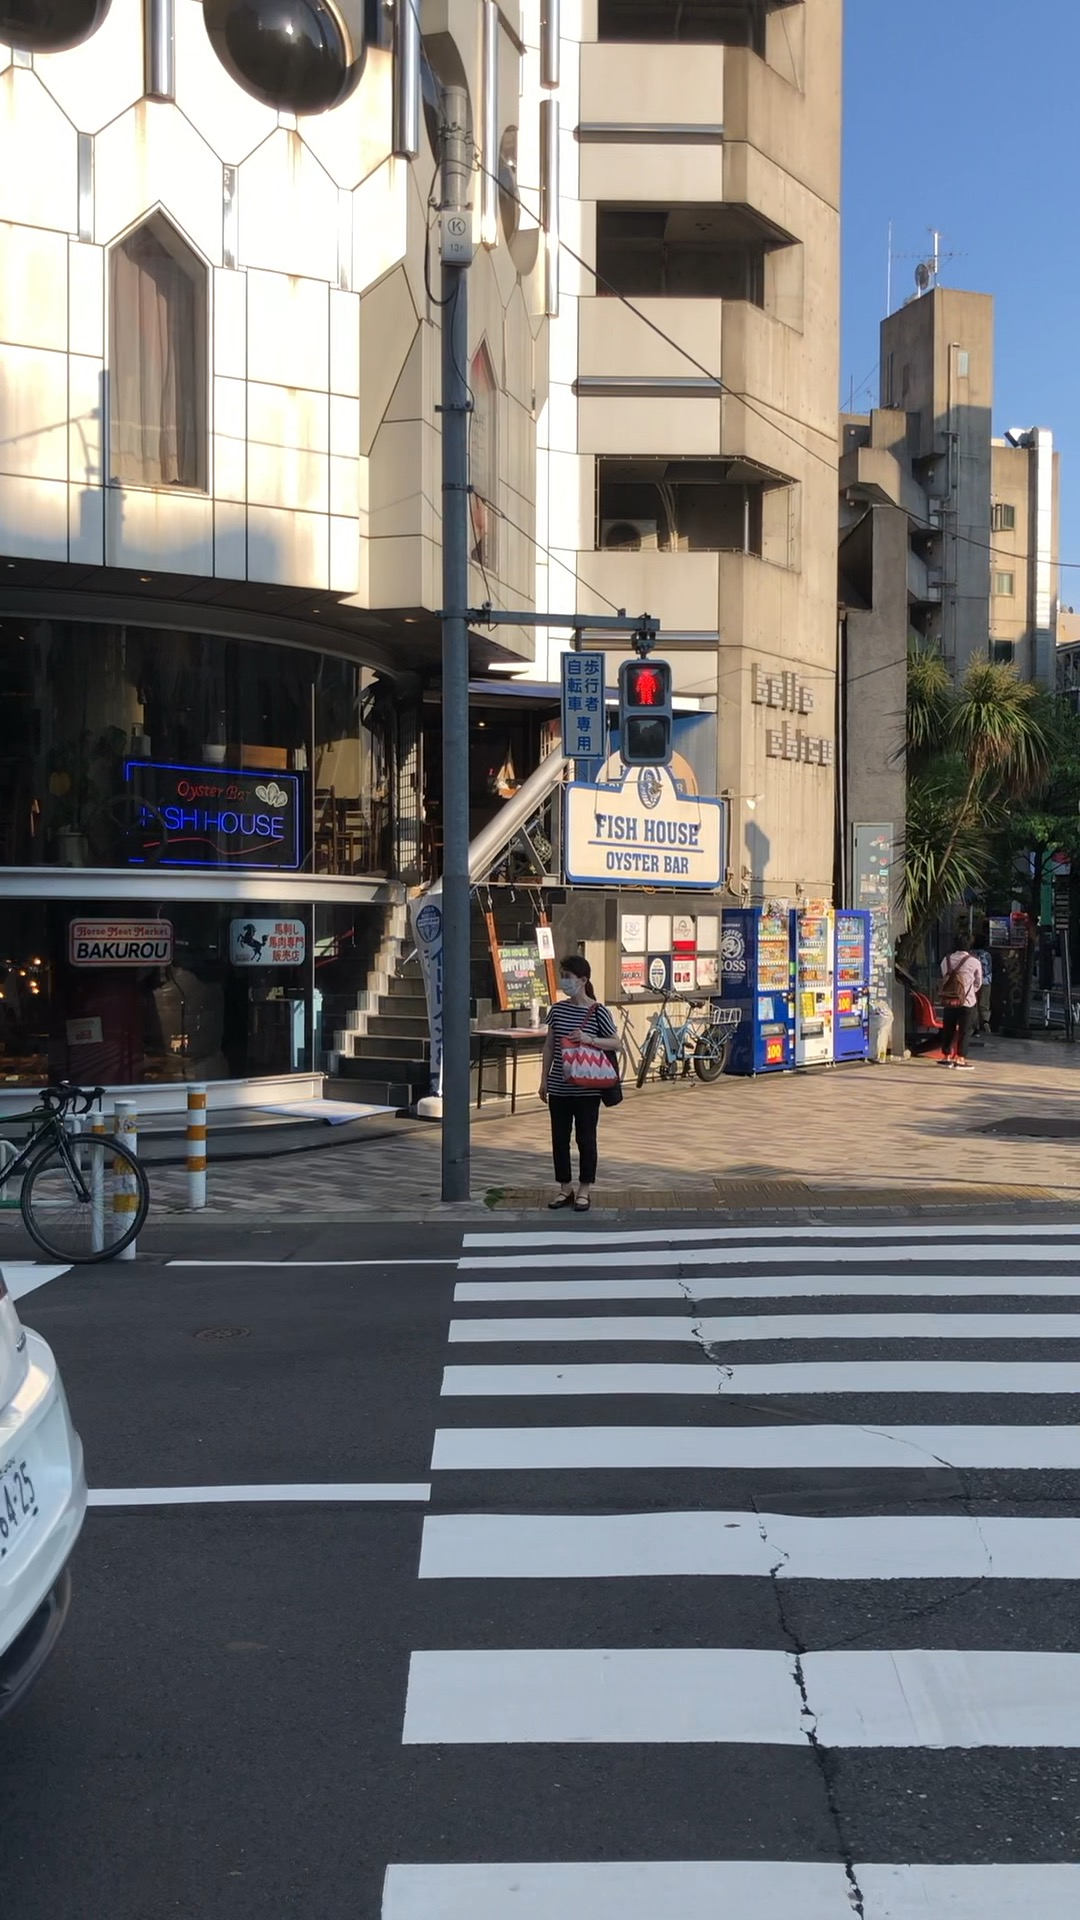red: (618, 659, 673, 767)
